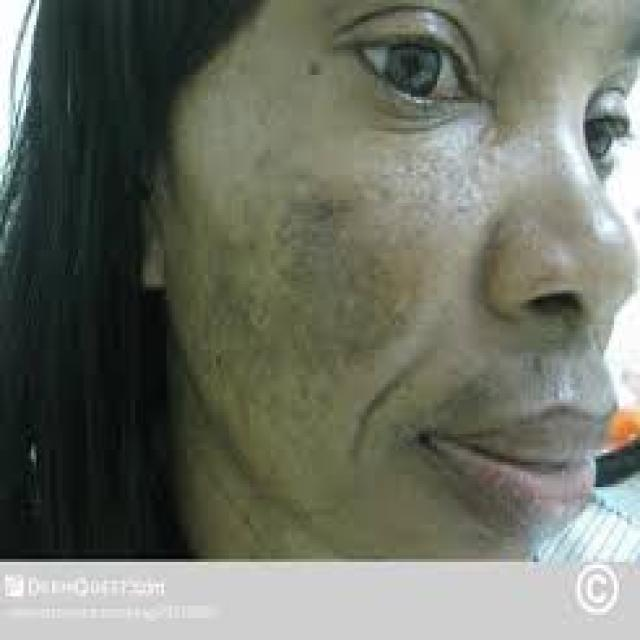pigmentation: (271, 177, 410, 377)
